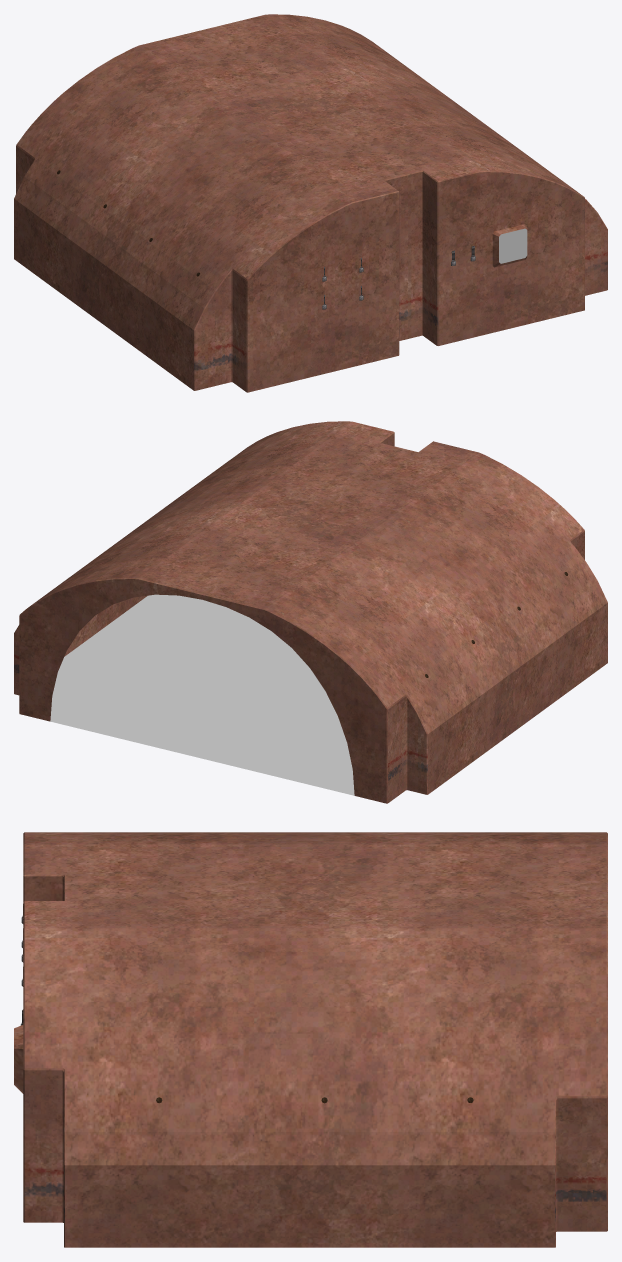
The model's file is thm_nboo_cantina_r7_alcove4_mesh_r7.fbx.
The picture shows the model from 3 angles, top to bottom: view 1: azimuth 30°, elevation 25°; view 2: azimuth 150°, elevation 25°; view 3: azimuth 270°, elevation 25°; orthographic projection. The views are drawn at different scales.
Visible parts, largest first — view 1: mesh_node; view 2: mesh_node; view 3: mesh_node.
Part boxes in pixels (x1,y1,x2,y2): mesh_node: (14, 14, 607, 392); mesh_node: (14, 421, 607, 803); mesh_node: (14, 832, 607, 1247).
Bounding box in the file's own units: 10.94 × 4.15 × 9.98.
